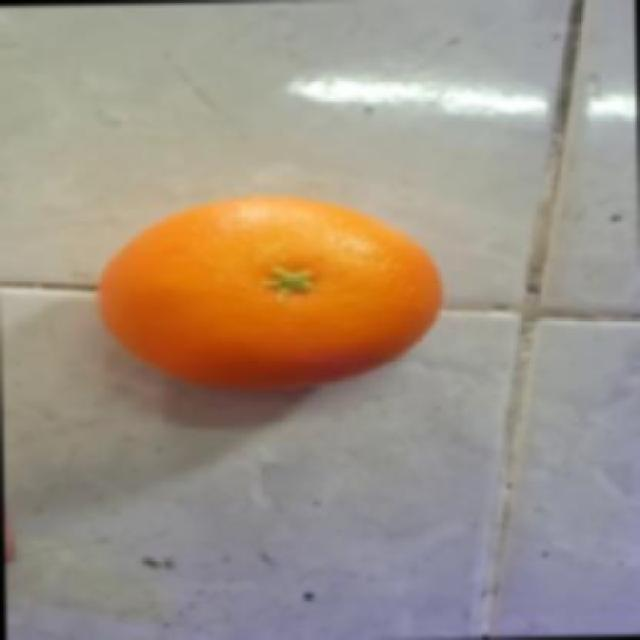Orange: (95, 192, 443, 394)
